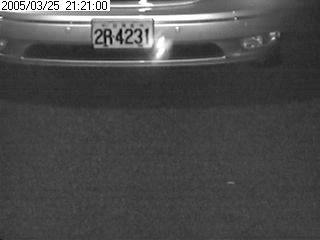plate: (89, 17, 154, 51)
